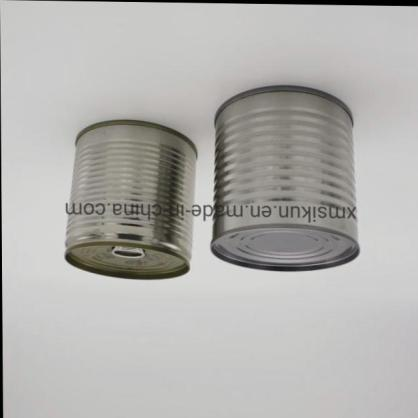can: (206, 84, 360, 272), (62, 118, 199, 280)
